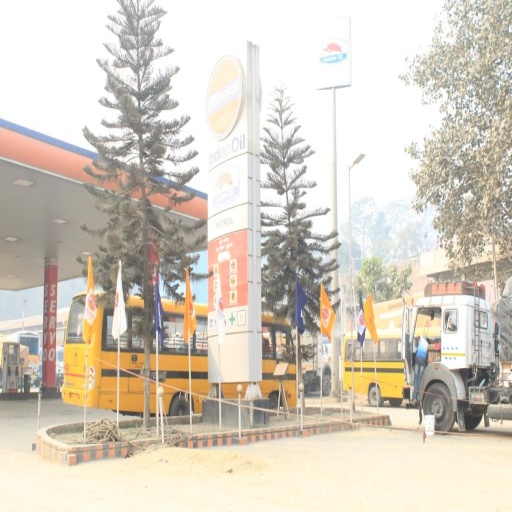roof: (1, 112, 208, 294)
